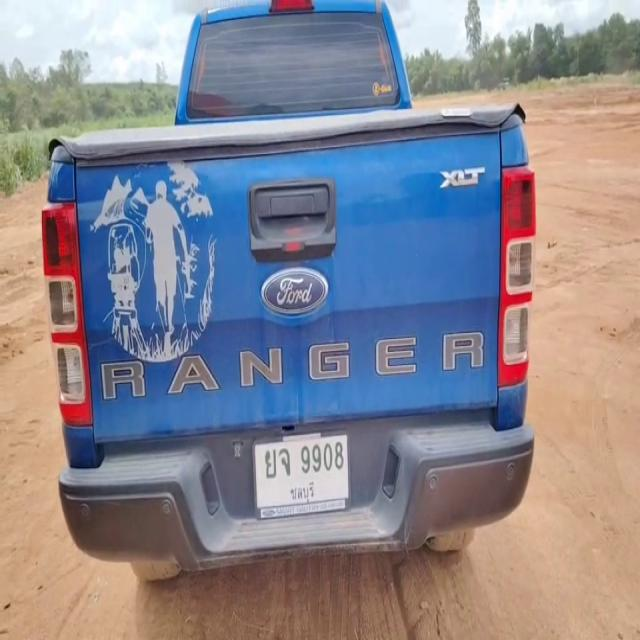Digit: (301, 438, 346, 478)
Licenseplate: (251, 435, 353, 516)
Provincename: (288, 481, 316, 505)
Thaichar: (263, 445, 290, 479)
